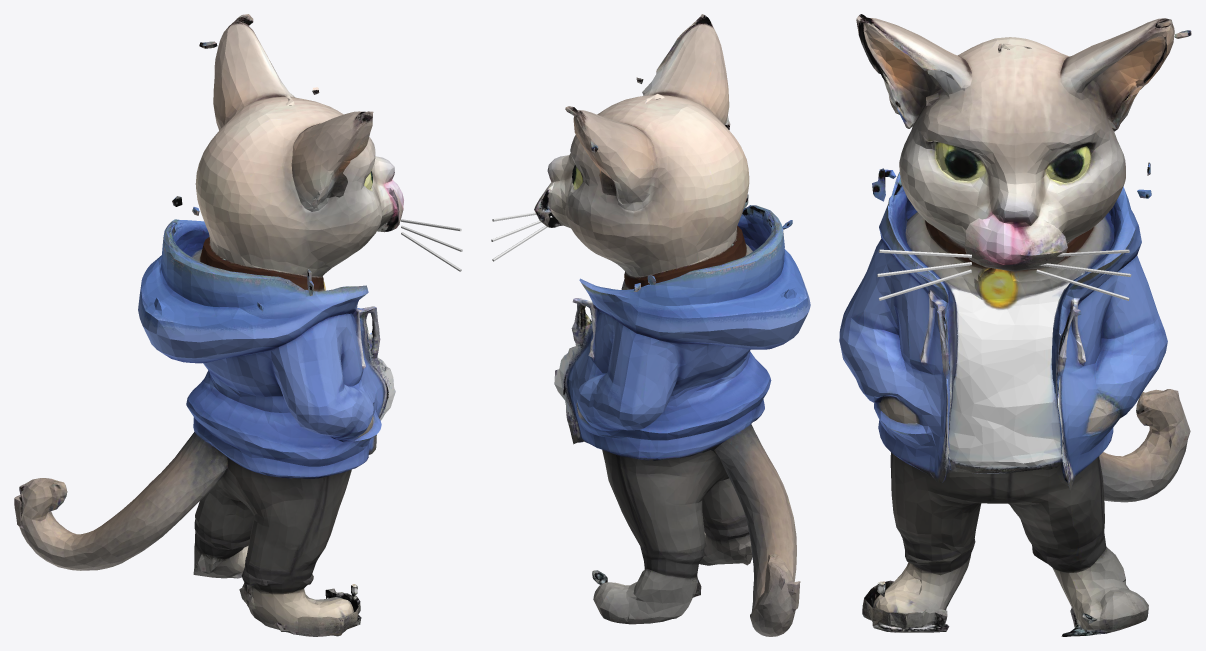
The model's file is pureum.glb.
3 renders of one model, left to right at view 1: azimuth 30°, elevation 25°; view 2: azimuth 150°, elevation 25°; view 3: azimuth 270°, elevation 25°, orthographic. The views are drawn at different scales.
Parts seen in each view (by area): view 1: geometry_0; view 2: geometry_0; view 3: geometry_0.
Part boxes in pixels (x1,y1,x2,y2): geometry_0: (14,14,462,636); geometry_0: (491,14,810,636); geometry_0: (839,14,1191,636).
Bounding box in the file's own units: 0.2737 × 0.42 × 0.2156.
Materials: 1 (1 with a texture image).
